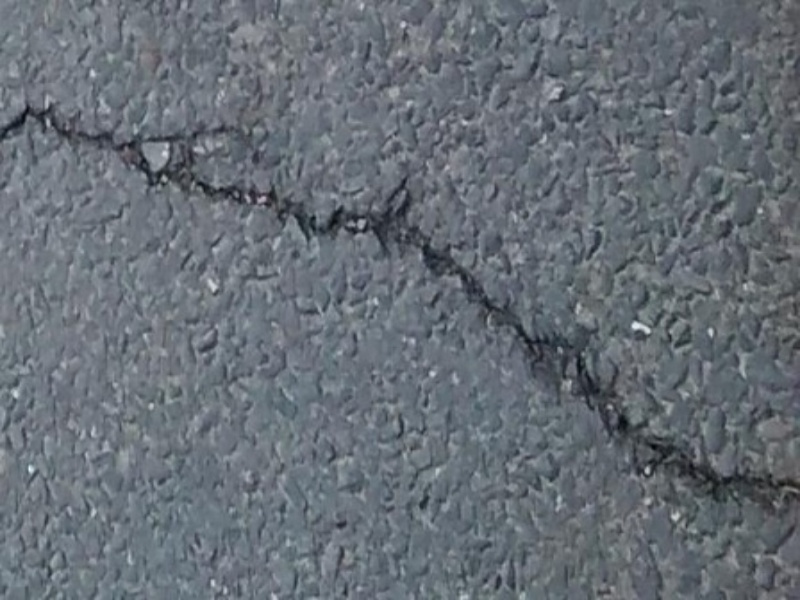crack: (1, 95, 796, 529)
